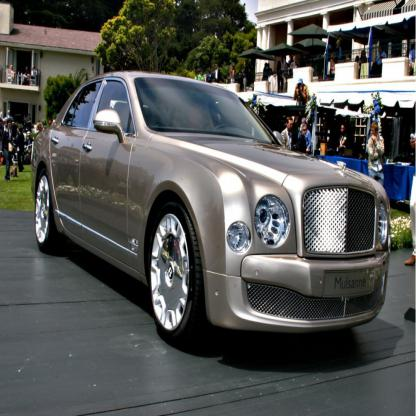Vehicle: (29, 76, 393, 347)
